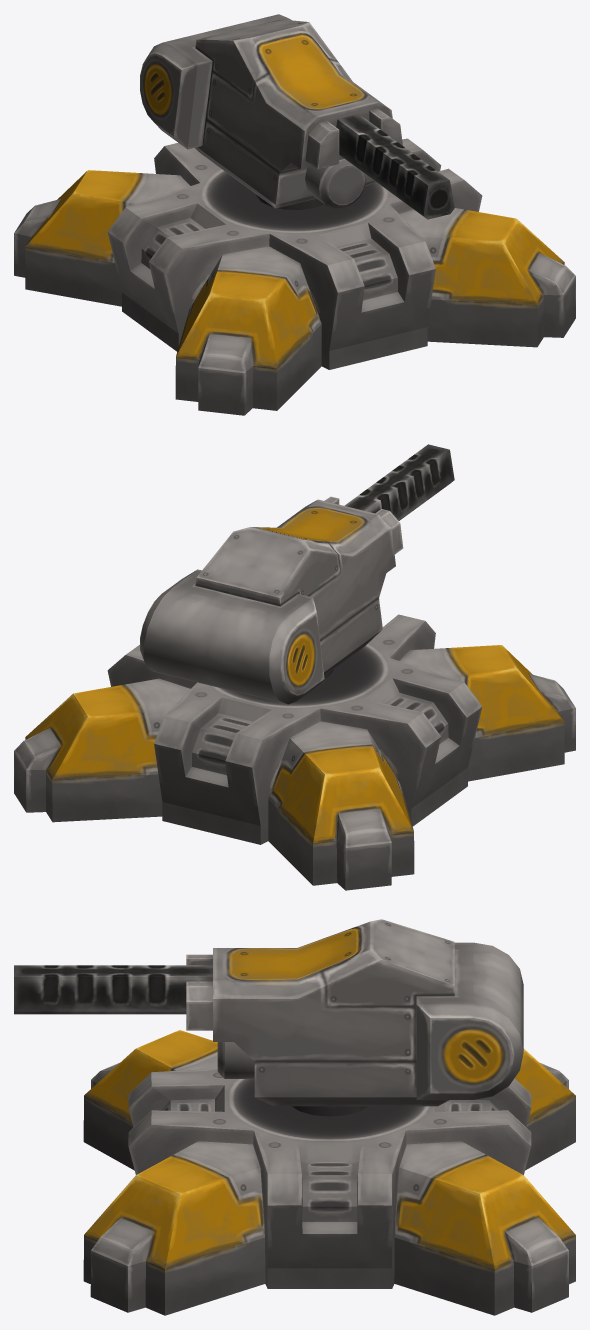
The model's file is turret_002 1.fbx.
3 views of the same model, one above another, from view 1: azimuth 30°, elevation 25°; view 2: azimuth 150°, elevation 25°; view 3: azimuth 270°, elevation 25° (orthographic). The views are drawn at different scales.
Parts seen in each view (by area): view 1: turret_base, turret_tower; view 2: turret_base, turret_tower; view 3: turret_base, turret_tower.
Part boxes in pixels (x1,y1,x2,y2): turret_base: (14,138,575,415); turret_tower: (140,14,454,219); turret_base: (14,614,575,890); turret_tower: (140,444,454,704); turret_base: (83,1030,575,1315); turret_tower: (14,919,523,1116).
Size of the model in its own units: 564 by 644 by 349.
